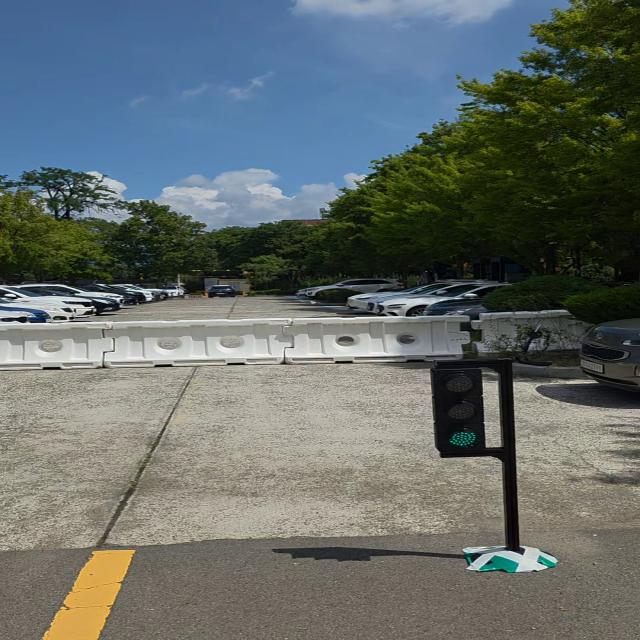green: (431, 362, 488, 458)
